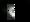person: (4, 5, 15, 21)
